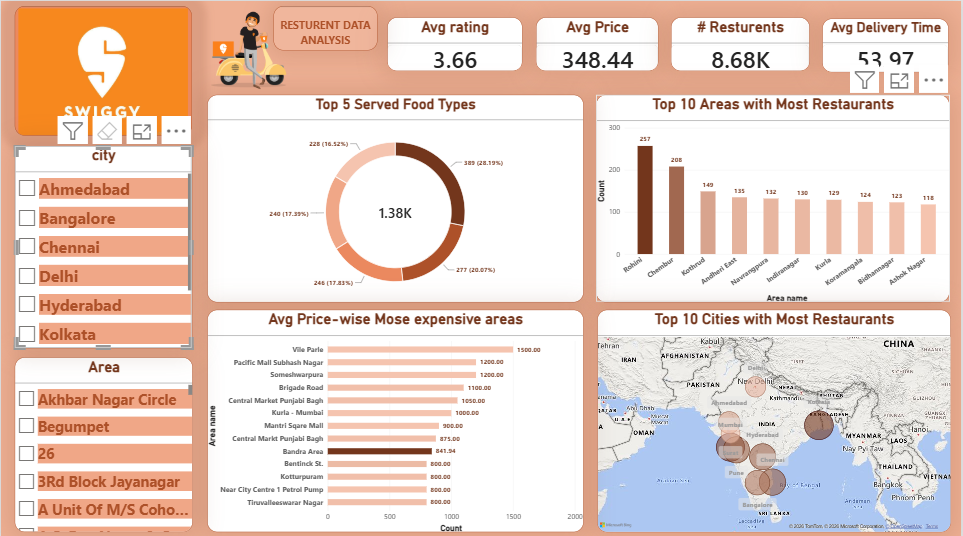

This screenshot's page, from the dashboard's own definition file:
{"tool":"powerbi","page":{"name":"Page 1","canvas":[1920,1080],"ordinal":0},"visuals":[{"type":"cardVisual","title":"Avg Price","fields":{"Data":["Avg(swiggy.Price)"]},"box":[1070,32.5,245,107.5],"z":0},{"type":"cardVisual","title":"Avg rating ","fields":{"Data":["Avg(swiggy.Avg ratings)"]},"box":[772.5,32.5,270,107.5],"z":1000},{"type":"cardVisual","title":"# Resturents  ","fields":{"Data":["Count(swiggy.ID)"]},"box":[1340,32.5,277.5,107.5],"z":2000},{"type":"cardVisual","title":"Avg Delivery Time ","fields":{"Data":["Avg(swiggy.Delivery time)"]},"box":[1643,35,252.5,107.5],"z":3000},{"type":"columnChart","title":"Top 10 Areas with Most Restaurants","fields":{"Category":["swiggy.Area"],"Y":["CountNonNull(swiggy.ID)"]},"box":[1190,187.5,707.5,415],"z":4000},{"type":"donutChart","title":"Top 5 Served Food Types","fields":{"Category":["swiggy.Food type"],"Y":["CountNonNull(swiggy.ID)"]},"box":[412.5,187.5,752.5,415],"z":5000},{"type":"map","title":"Top 10 Cities with Most Restaurants","fields":{"Category":["swiggy.City"],"Size":["CountNonNull(swiggy.ID)"]},"box":[1192.5,617.5,707.5,445],"z":6000},{"type":"clusteredBarChart","title":"Avg Price-wise Mose expensive areas","fields":{"Category":["swiggy.Area"],"Y":["Avg(swiggy.Price)"]},"box":[412.5,617.5,752.5,445],"z":7000},{"type":"textbox","box":[545.5,10.3,207.9,88.5],"z":8000},{"type":"slicer","title":"city","fields":{"Values":["swiggy.City"]},"box":[27.5,290,355,405],"z":9000},{"type":"slicer","title":"Area","fields":{"Values":["swiggy.Area"]},"box":[26.8,712.2,356.1,349.9],"z":10000},{"type":"image","box":[26.8,10.3,354,259.3],"z":11000},{"type":"image","box":[339.6,10.3,310,177.5],"z":12000}]}

Visuals, with their boxes in screenshot pixels (x1, y1, x2, y2), scaled from the page's 1920x1080 canvas onto the 963x536 screenshot:
"Avg Price" cardVisual: locate(537, 16, 660, 69)
"Avg rating " cardVisual: locate(387, 16, 523, 69)
"# Resturents  " cardVisual: locate(672, 16, 811, 69)
"Avg Delivery Time " cardVisual: locate(824, 17, 951, 71)
"Top 10 Areas with Most Restaurants" columnChart: locate(597, 93, 952, 299)
"Top 5 Served Food Types" donutChart: locate(207, 93, 584, 299)
"Top 10 Cities with Most Restaurants" map: locate(598, 306, 953, 527)
"Avg Price-wise Mose expensive areas" clusteredBarChart: locate(207, 306, 584, 527)
textbox: locate(274, 5, 378, 49)
"city" slicer: locate(14, 144, 192, 345)
"Area" slicer: locate(13, 353, 192, 527)
image: locate(13, 5, 191, 134)
image: locate(170, 5, 326, 93)
